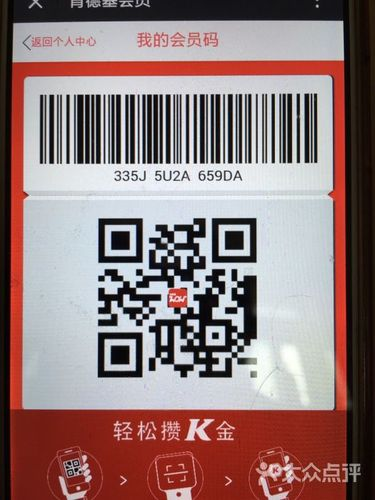QRCode: (91, 208, 277, 386)
